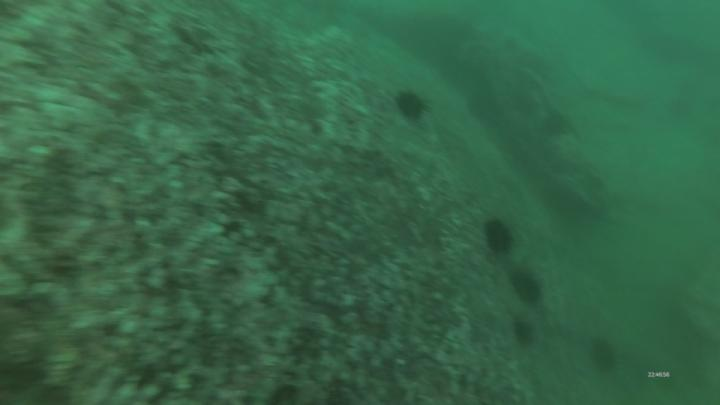echinus: (393, 84, 430, 126), (511, 266, 545, 308), (484, 216, 515, 257), (590, 336, 618, 372), (510, 317, 539, 351)
